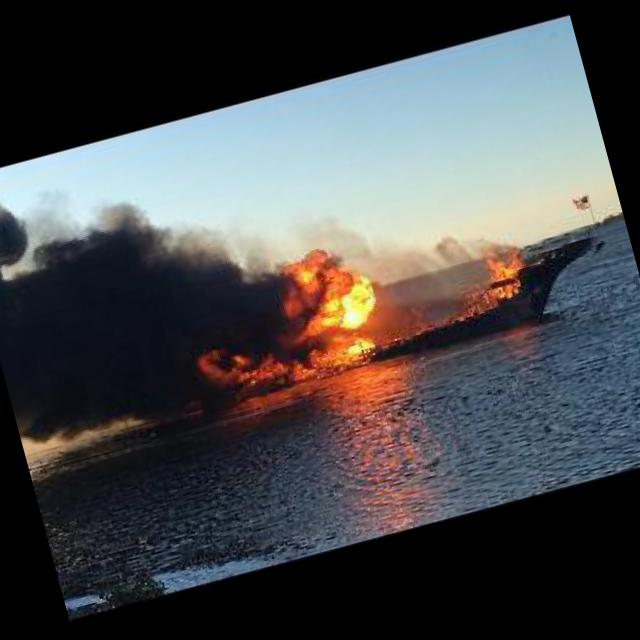fire: (208, 236, 380, 394), (466, 240, 526, 308)
smoke: (0, 135, 294, 461), (418, 217, 512, 290)
